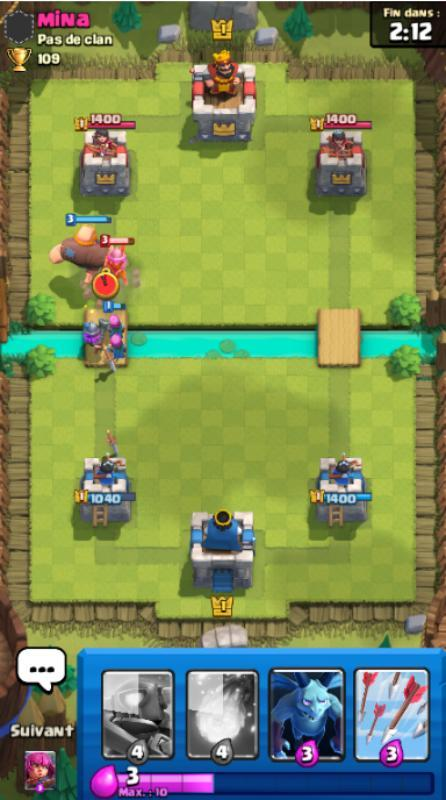enemy_musketeer: (98, 233, 143, 299)
player_archers: (102, 327, 130, 364), (101, 304, 126, 335)
player_giant: (45, 217, 112, 275)
player_musketeer: (76, 314, 107, 355)
